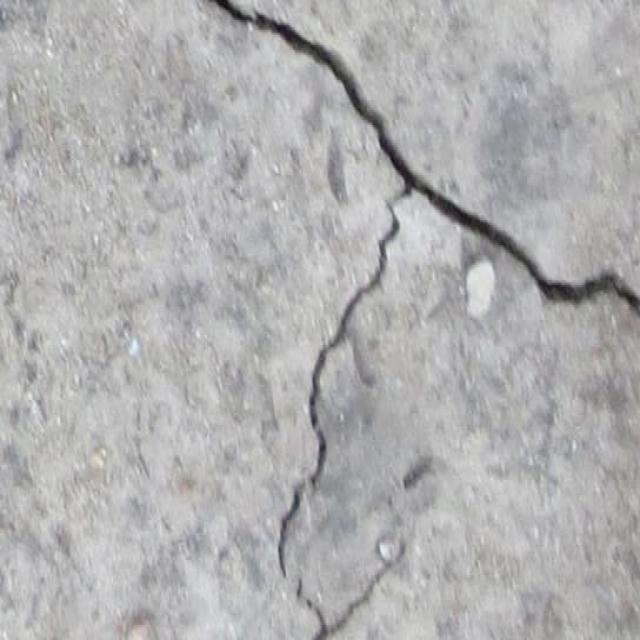crack: (206, 1, 636, 638)
